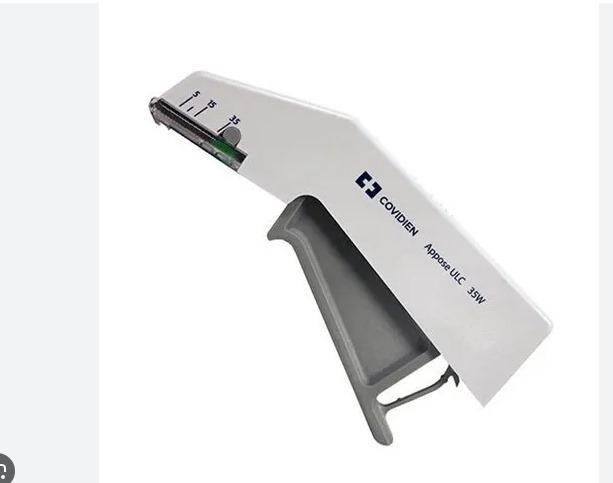Skin Stapler: (144, 69, 561, 452)
